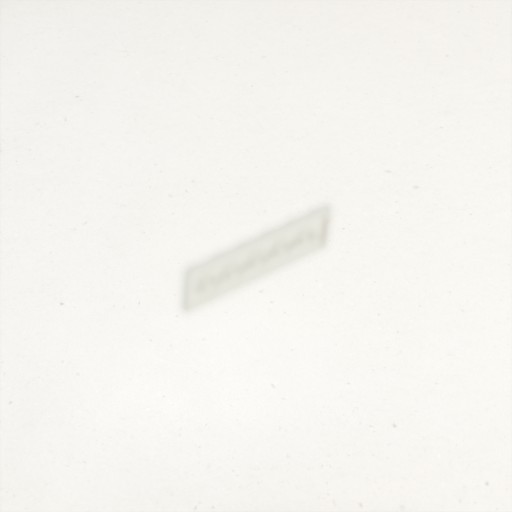lego: (179, 200, 335, 317)
